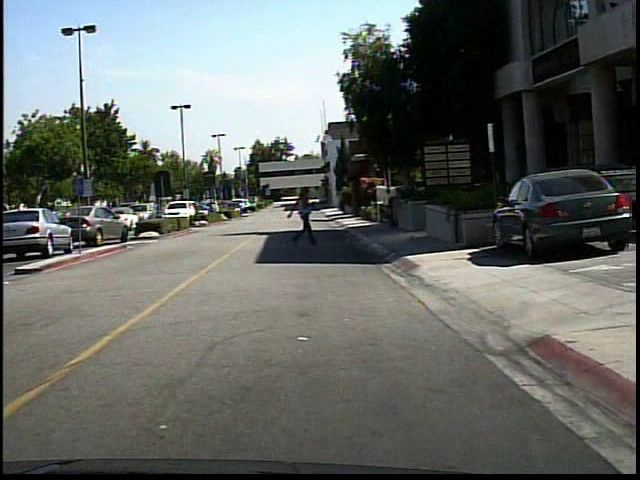person: (282, 186, 315, 252)
